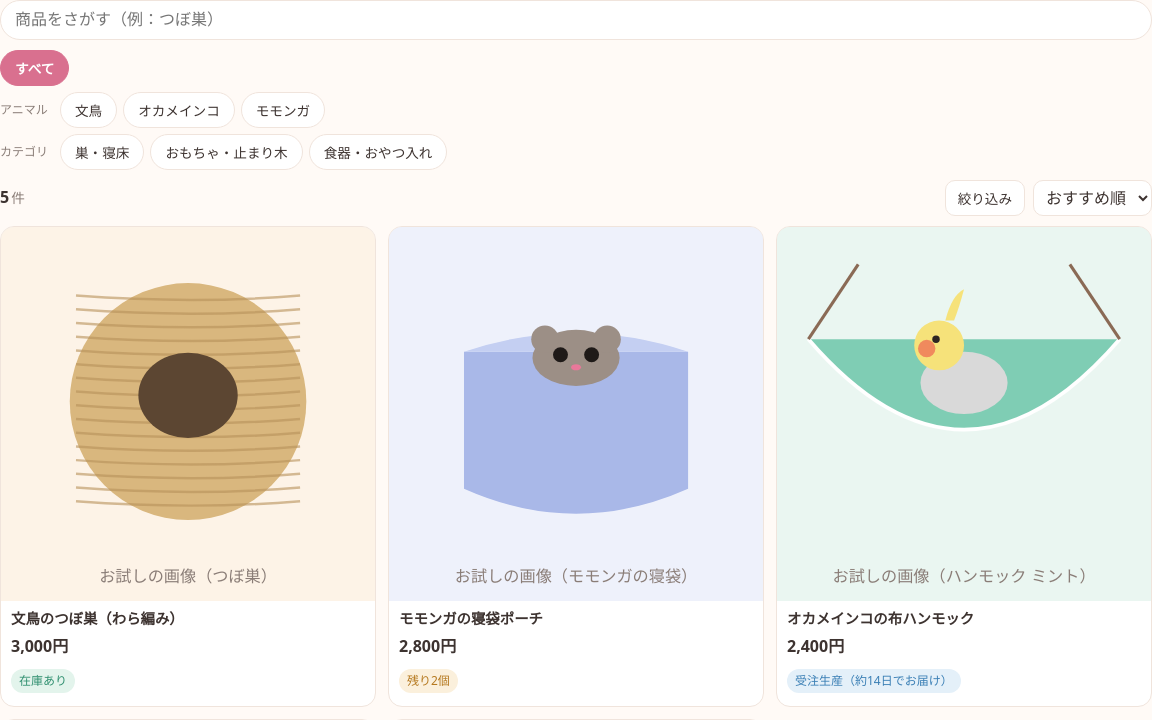
it: 絞り込み › カテゴリを押すとそのカテゴリだけになり、URL にも残る。もう一度押すと戻る
Click the button "モモンガ" at (283, 110), box [241,92,325,128]
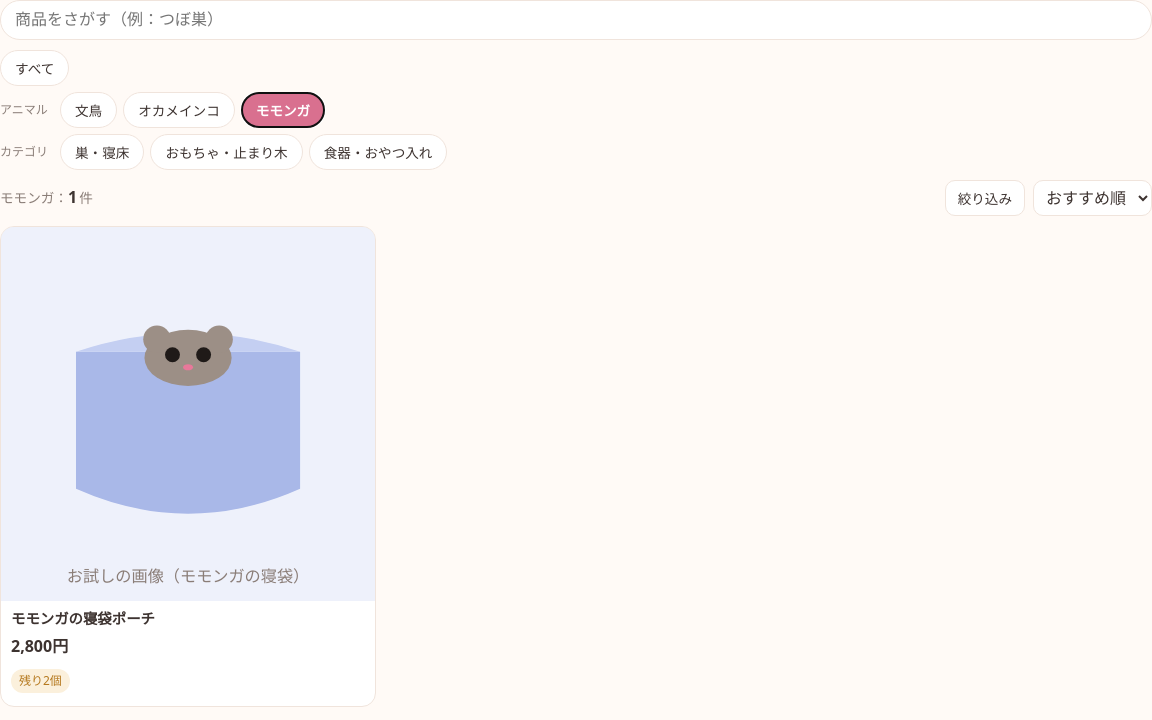
Click the button "モモンガ" at (283, 110), box [241,92,325,128]
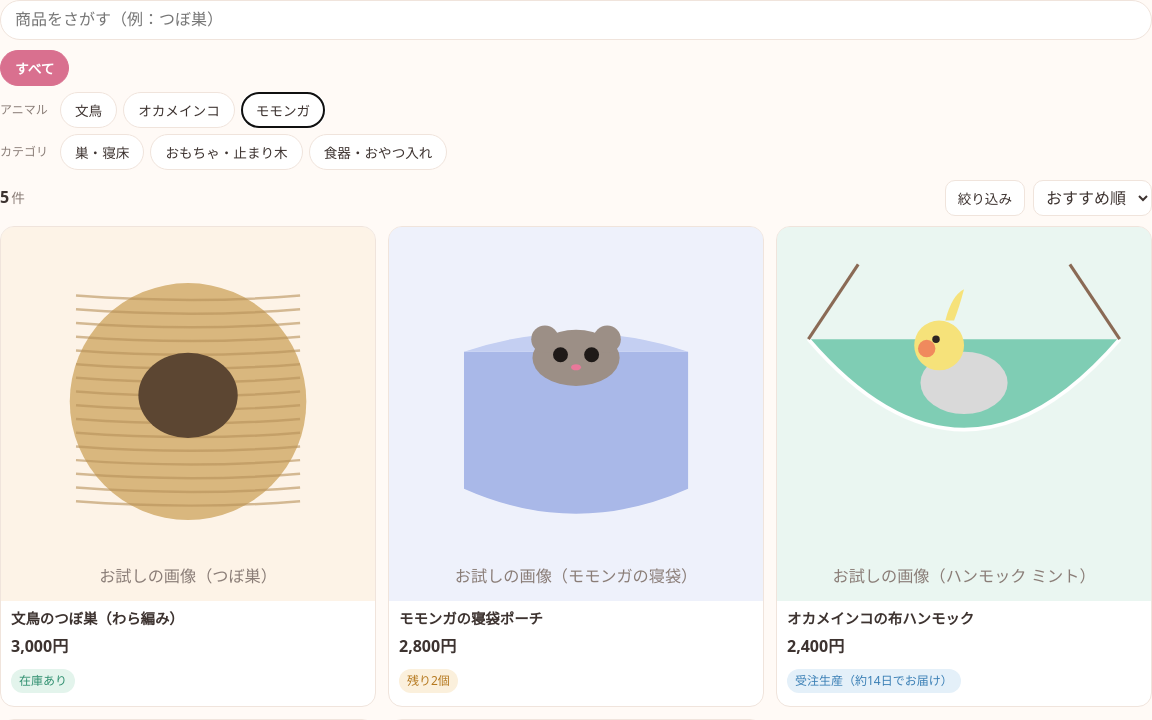
Now the number of headings is 5
